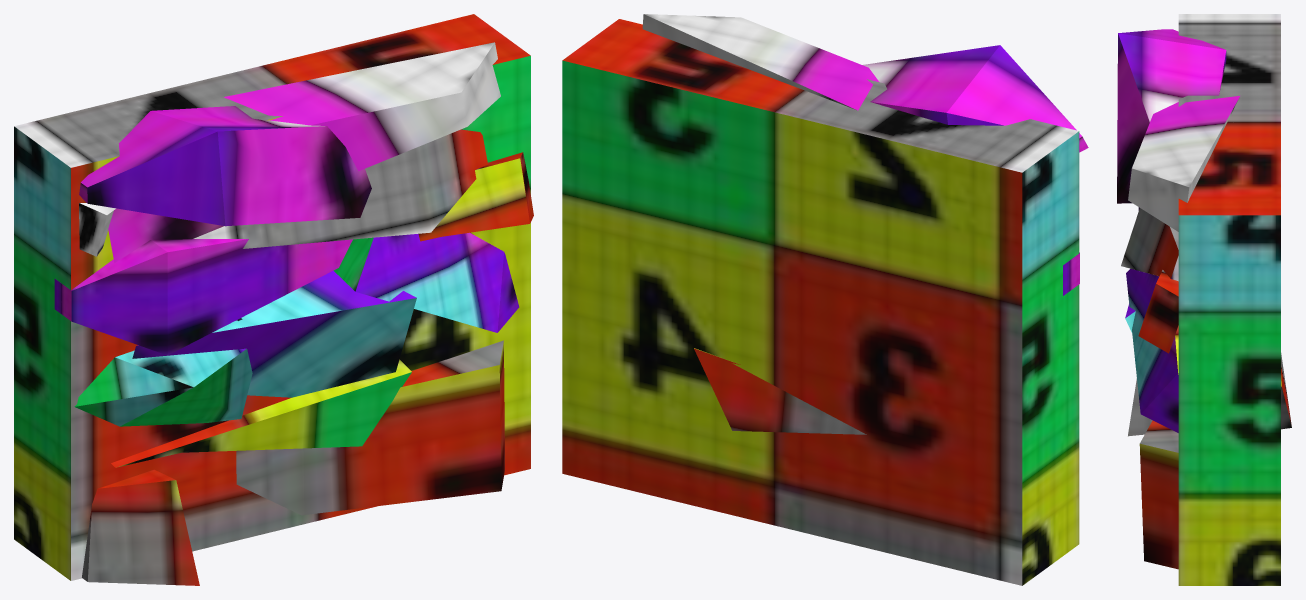
File: MuurAsset.fbx
3 views of the same model, side by side, from view 1: azimuth 30°, elevation 25°; view 2: azimuth 150°, elevation 25°; view 3: azimuth 270°, elevation 25° (orthographic). The views are drawn at different scales.
Visible parts, largest first — view 1: polySurface2; view 2: polySurface2; view 3: polySurface2.
Boxes of the visible parts, box(x1,y1,x2,y2) form: polySurface2: box(14, 14, 533, 585); polySurface2: box(562, 14, 1088, 585); polySurface2: box(1117, 14, 1291, 585).
Bounding box in the file's own units: 4.66 × 4.41 × 1.71.
Materials: 1 (1 with a texture image).
